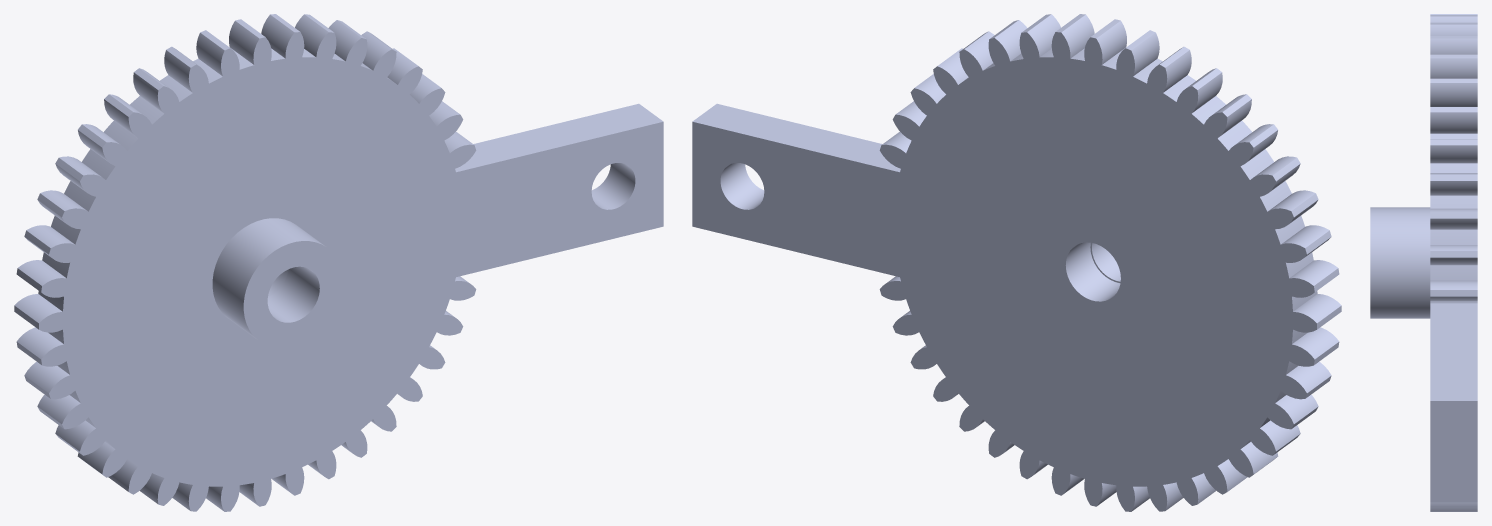
The model's file is ratio_right_gear.dae.
The picture shows the model from 3 angles, left to right: view 1: azimuth 30°, elevation 25°; view 2: azimuth 150°, elevation 25°; view 3: azimuth 270°, elevation 25°; orthographic projection. The views are drawn at different scales.
Visible parts, largest first — view 1: ratio_right_gear; view 2: ratio_right_gear; view 3: ratio_right_gear.
Part boxes in pixels (x1,y1,x2,y2): ratio_right_gear: (14, 14, 663, 511); ratio_right_gear: (692, 14, 1341, 511); ratio_right_gear: (1370, 14, 1477, 511).
Bounding box in the file's own units: 0.0498 × 0.0077 × 0.0357.
